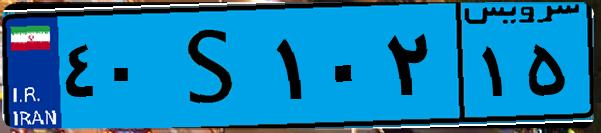0: (330, 28, 385, 110), (110, 28, 158, 98)
1: (270, 28, 330, 110), (475, 38, 525, 113)
2: (385, 28, 445, 110)
4: (57, 26, 110, 100)
5: (525, 38, 570, 115)
S: (158, 12, 270, 120)
